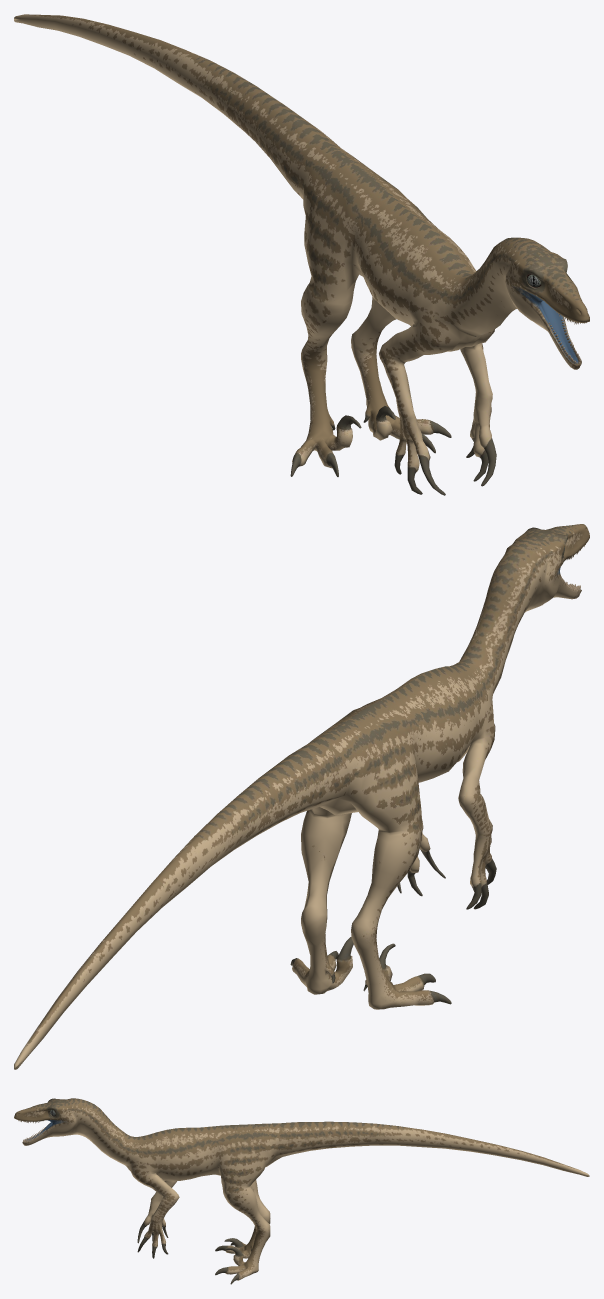
Rendered from Troodon.glb.
3 renders of one model, top to bottom at view 1: azimuth 30°, elevation 25°; view 2: azimuth 150°, elevation 25°; view 3: azimuth 270°, elevation 25°, orthographic. The views are drawn at different scales.
Parts seen in each view (by area): view 1: DW_Troodon_Adulto_Mayor_mesh; view 2: DW_Troodon_Adulto_Mayor_mesh; view 3: DW_Troodon_Adulto_Mayor_mesh.
Part boxes in pixels (x1,y1,x2,y2): DW_Troodon_Adulto_Mayor_mesh: [14, 14, 589, 495]; DW_Troodon_Adulto_Mayor_mesh: [14, 524, 589, 1069]; DW_Troodon_Adulto_Mayor_mesh: [14, 1098, 589, 1284].
Size of the model in its own units: 0.1618 by 0.3166 by 1.
2 materials, 2 textured.
